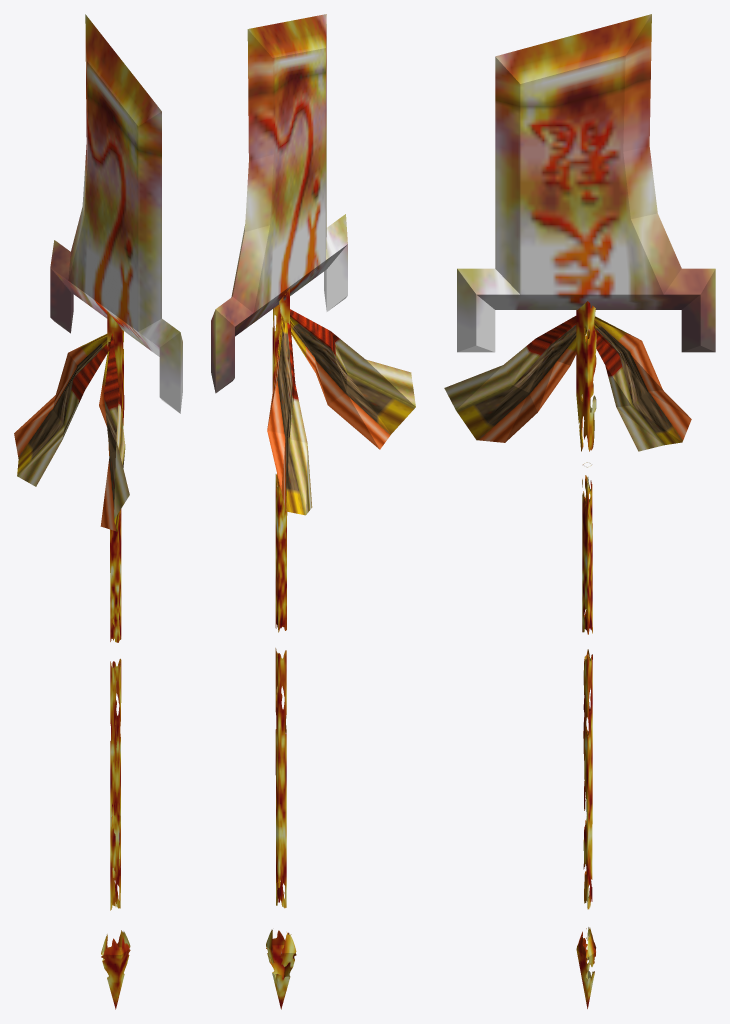
The model's file is longarm06_1.obj.
3 views of the same model, side by side, from view 1: azimuth 30°, elevation 25°; view 2: azimuth 150°, elevation 25°; view 3: azimuth 270°, elevation 25° (orthographic). The views are drawn at different scales.
Visible parts, largest first — view 1: longarm06_1; view 2: longarm06_1; view 3: longarm06_1.
Part boxes in pixels (x1=…): longarm06_1: x1=14, y1=14, x2=182, y2=1009; longarm06_1: x1=211, y1=14, x2=415, y2=1009; longarm06_1: x1=444, y1=14, x2=715, y2=1008.
Bounding box in the file's own units: 0.2062 × 2.35 × 0.58.
